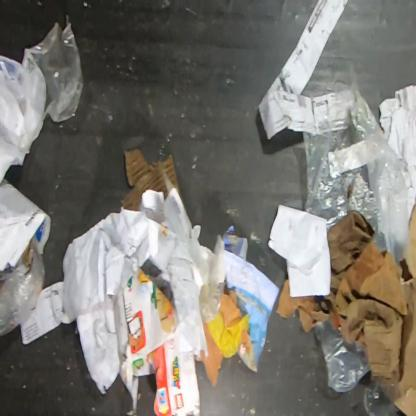cardboard: (275, 198, 415, 415), (113, 266, 202, 416), (120, 148, 183, 212), (201, 323, 224, 387), (219, 285, 242, 327), (240, 329, 251, 355)
soft_plastic: (302, 88, 416, 264), (28, 13, 85, 123), (0, 234, 46, 338), (314, 319, 370, 393), (199, 234, 227, 323), (362, 376, 404, 415)
